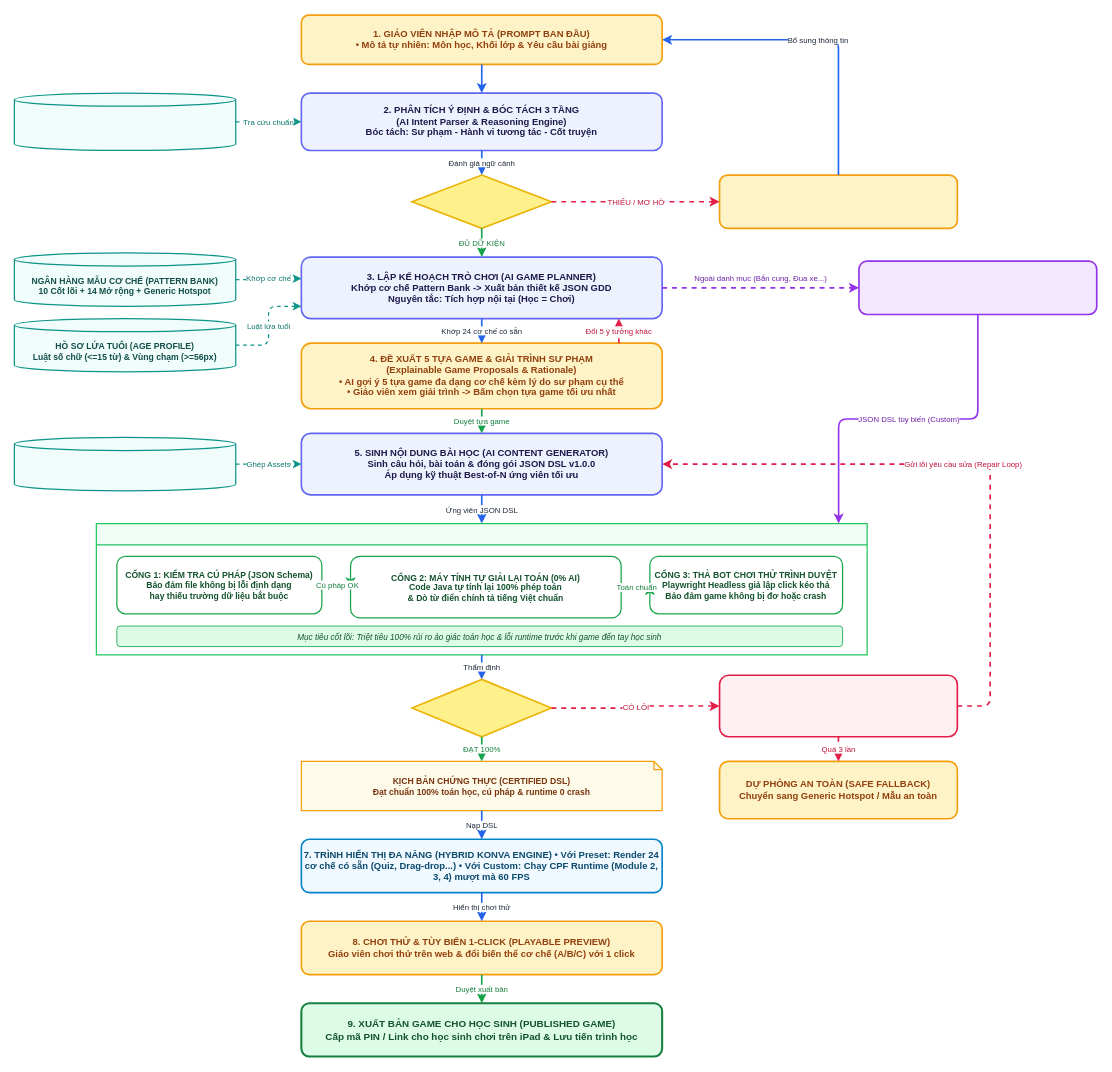
The diagram is 1112 pixels wide and 1072 high, and some of its shapes have lost their labels. The box of each missing label's shape, as (x1, y1, x2, y2) in pixels:
6. BỘ 3 LỚP KIỂM TRA TỰ ĐỘNG (CHẶN ĐỨNG ẢO GIÁC & LỖI GAME): (95, 523, 867, 655)
BỘ PHẢN HỒI LỖI (FEEDBACK ENGINE) Gói lỗi cụ thể cho AI sửa (Tối đa 3 lần): (718, 674, 958, 737)
COMPOSABLE PRIMITIVES FRAMEWORK (CPF): (858, 260, 1097, 315)
CẢ 3 CỔNG ĐỀU ĐẠT? (All Passed?): (411, 678, 552, 737)
HỎI LÀM RÕ (CLARIFICATION LOOP) AI chủ động hỏi lại khi thiếu khối lớp/kỹ năng: (718, 174, 958, 229)
KHO THEME & ASSET ĐỒ HỌA Icon SVG chuẩn hóa & Âm thanh an toàn: (13, 436, 236, 491)
TRI THỨC CTGDPT 2018 (Curriculum-RAG Database) Chuẩn kỹ năng Toán/Tiếng Việt: (13, 92, 236, 151)
ĐỦ DỮ KIỆN? (Intent Check): (411, 174, 552, 229)
